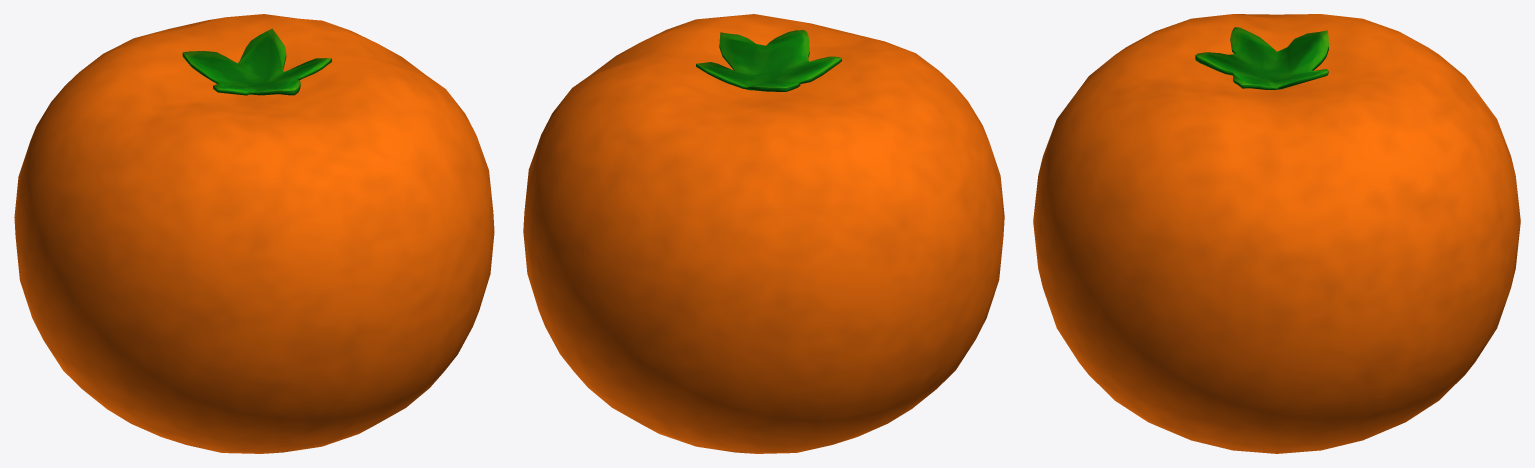
The model's file is orange.fbx.
The picture shows the model from 3 angles, left to right: view 1: azimuth 30°, elevation 25°; view 2: azimuth 150°, elevation 25°; view 3: azimuth 270°, elevation 25°; orthographic projection.
Visible parts, largest first — view 1: orange_LOD0, orangeStem_LOD0; view 2: orange_LOD0, orangeStem_LOD0; view 3: orange_LOD0, orangeStem_LOD0.
Boxes of the visible parts, x1,y1,x2,y2 form: orange_LOD0: [14, 14, 494, 453]; orangeStem_LOD0: [182, 28, 331, 95]; orange_LOD0: [523, 14, 1004, 453]; orangeStem_LOD0: [696, 30, 841, 91]; orange_LOD0: [1033, 14, 1520, 453]; orangeStem_LOD0: [1195, 27, 1328, 89].
Size of what is drawn, in the model's own units: 0.1227 by 0.1038 by 0.1227.
Materials: 2 (2 with a texture image).
